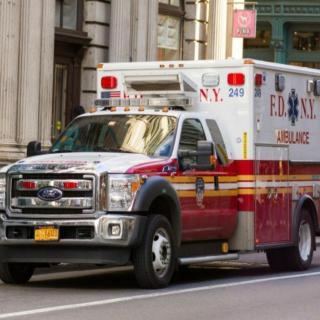Ambulance: (0, 33, 320, 289)
